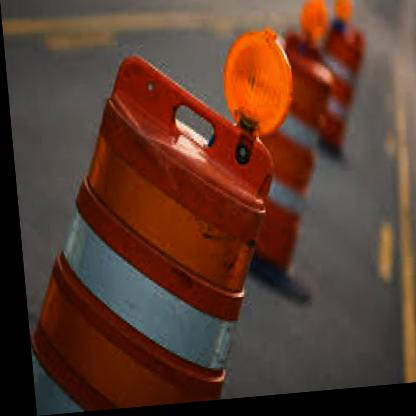obstacle: (6, 65, 327, 414)
